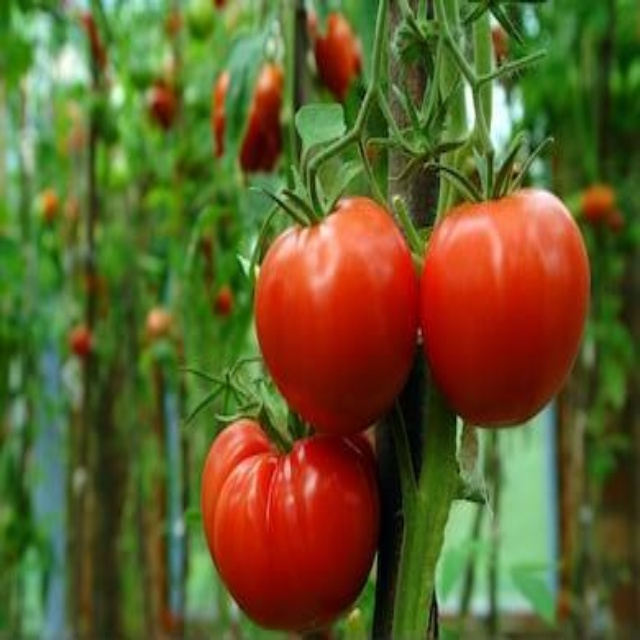tomato: (187, 409, 393, 622), (422, 193, 588, 428), (257, 210, 420, 427)
